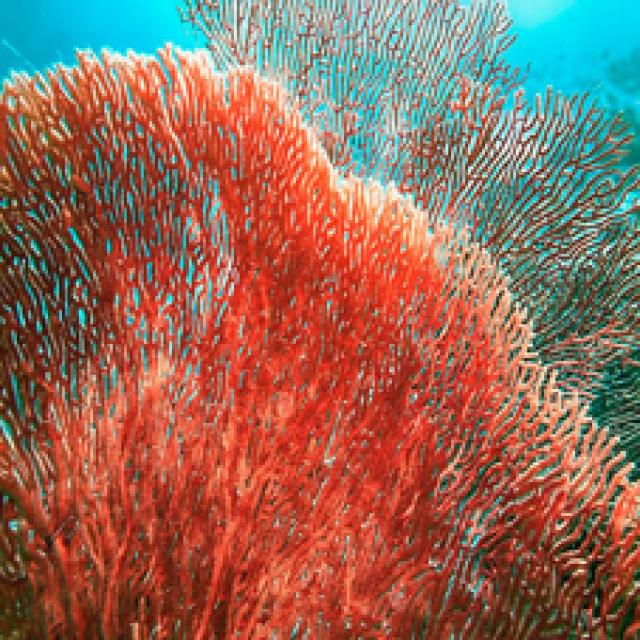Healthy: (1, 55, 638, 638), (181, 1, 638, 379)
